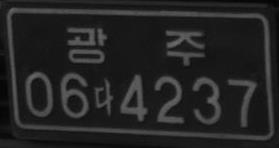0: (24, 70, 54, 117)
2: (153, 74, 185, 124)
3: (191, 75, 221, 126)
4: (118, 73, 148, 122)
6: (59, 72, 89, 119)
7: (226, 77, 257, 128)
광주_D: (66, 25, 205, 65)
다: (94, 77, 113, 116)
